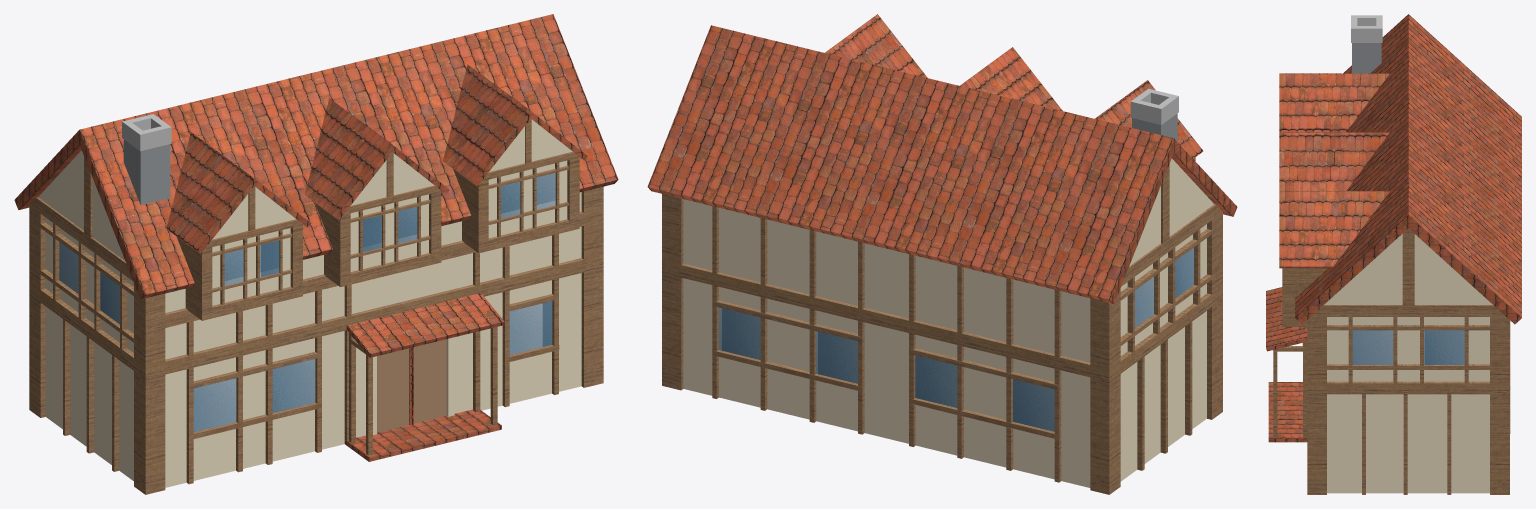
Rendered from BigHouse.fbx.
The picture shows the model from 3 angles, left to right: view 1: azimuth 30°, elevation 25°; view 2: azimuth 150°, elevation 25°; view 3: azimuth 270°, elevation 25°; orthographic projection. The views are drawn at different scales.
Parts seen in each view (by area): view 1: mergedBlocks_bricks(Clone)_0.233, mergedBlocks_custom9(Clone)_0.725, mergedBlocks_bricks(Clone)_0.227, mergedBlocks_wood(Clone)_0.3330, mergedBlocks_custom9(Clone)_0.731, mergedBlocks_stoneDark(Clone)_0.003, mergedBlocks_custom9(Clone)_0.723, mergedBlocks_wood(Clone)_0.1652, mergedBlocks_bricks(Clone)_0.168, mergedBlocks_bricks(Clone)_0.192, mergedBlocks_bricks(Clone)_0.144, mergedBlocks_wood(Clone)_0.1580 (+64 smaller); view 2: mergedBlocks_custom9(Clone)_0.732, mergedBlocks_bricks(Clone)_0.244, mergedBlocks_bricks(Clone)_0.253, mergedBlocks_bricks(Clone)_0.262, mergedBlocks_bricks(Clone)_0.221, mergedBlocks_wood(Clone)_0.3347, mergedBlocks_custom9(Clone)_0.731, mergedBlocks_custom9(Clone)_0.723, mergedBlocks_wood(Clone)_0.1585, mergedBlocks_wood(Clone)_0.1693, mergedBlocks_bricks(Clone)_0.192, mergedBlocks_bricks(Clone)_0.168 (+32 smaller); view 3: mergedBlocks_custom9(Clone)_0.734, mergedBlocks_custom9(Clone)_0.726, mergedBlocks_bricks(Clone)_0.233, mergedBlocks_bricks(Clone)_0.221, mergedBlocks_bricks(Clone)_0.244, mergedBlocks_bricks(Clone)_0.262, mergedBlocks_bricks(Clone)_0.253, mergedBlocks_bricks(Clone)_0.186, mergedBlocks_bricks(Clone)_0.138, mergedBlocks_bricks(Clone)_0.162, mergedBlocks_wood(Clone)_0.1587, mergedBlocks_wood(Clone)_0.1581 (+31 smaller).
Part boxes in pixels (bbox=[...]): mergedBlocks_bricks(Clone)_0.233: bbox=[198, 14, 618, 256]; mergedBlocks_custom9(Clone)_0.725: bbox=[165, 192, 581, 487]; mergedBlocks_bricks(Clone)_0.227: bbox=[79, 101, 217, 294]; mergedBlocks_wood(Clone)_0.3330: bbox=[146, 255, 601, 377]; mergedBlocks_custom9(Clone)_0.731: bbox=[45, 218, 92, 446]; mergedBlocks_stoneDark(Clone)_0.003: bbox=[347, 293, 504, 354]; mergedBlocks_custom9(Clone)_0.723: bbox=[92, 252, 133, 480]; mergedBlocks_wood(Clone)_0.1652: bbox=[145, 293, 165, 494]; mergedBlocks_bricks(Clone)_0.168: bbox=[304, 119, 392, 217]; mergedBlocks_bricks(Clone)_0.192: bbox=[443, 85, 530, 183]; mergedBlocks_bricks(Clone)_0.144: bbox=[166, 153, 253, 251]; mergedBlocks_wood(Clone)_0.1580: bbox=[584, 186, 603, 387]; mergedBlocks_custom9(Clone)_0.732: bbox=[683, 199, 1090, 487]; mergedBlocks_bricks(Clone)_0.244: bbox=[647, 25, 826, 214]; mergedBlocks_bricks(Clone)_0.253: bbox=[763, 53, 942, 243]; mergedBlocks_bricks(Clone)_0.262: bbox=[879, 81, 1057, 271]; mergedBlocks_bricks(Clone)_0.221: bbox=[995, 110, 1173, 299]; mergedBlocks_wood(Clone)_0.3347: bbox=[681, 265, 1108, 380]; mergedBlocks_custom9(Clone)_0.731: bbox=[1120, 257, 1161, 481]; mergedBlocks_custom9(Clone)_0.723: bbox=[1161, 224, 1206, 446]; mergedBlocks_wood(Clone)_0.1585: bbox=[662, 194, 681, 390]; mergedBlocks_wood(Clone)_0.1693: bbox=[1090, 298, 1109, 494]; mergedBlocks_bricks(Clone)_0.192: bbox=[844, 14, 927, 77]; mergedBlocks_bricks(Clone)_0.168: bbox=[979, 47, 1062, 110]; mergedBlocks_custom9(Clone)_0.734: bbox=[1408, 317, 1489, 493]; mergedBlocks_custom9(Clone)_0.726: bbox=[1327, 317, 1408, 493]; mergedBlocks_bricks(Clone)_0.233: bbox=[1295, 64, 1408, 317]; mergedBlocks_bricks(Clone)_0.221: bbox=[1408, 14, 1521, 166]; mergedBlocks_bricks(Clone)_0.244: bbox=[1408, 165, 1521, 317]; mergedBlocks_bricks(Clone)_0.262: bbox=[1408, 65, 1521, 216]; mergedBlocks_bricks(Clone)_0.253: bbox=[1408, 115, 1521, 267]; mergedBlocks_bricks(Clone)_0.186: bbox=[1279, 191, 1341, 266]; mergedBlocks_bricks(Clone)_0.138: bbox=[1279, 73, 1341, 132]; mergedBlocks_bricks(Clone)_0.162: bbox=[1279, 132, 1341, 190]; mergedBlocks_wood(Clone)_0.1587: bbox=[1490, 315, 1509, 494]; mergedBlocks_wood(Clone)_0.1581: bbox=[1307, 315, 1326, 494].
Size of the model in its own units: 4800 by 3259 by 2576.
